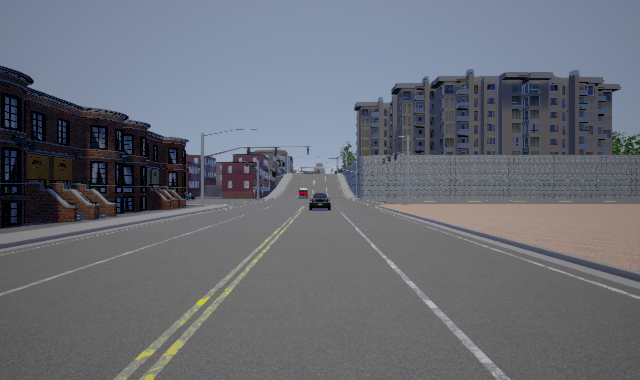vehicle: (309, 193, 331, 210), (298, 187, 309, 198)
